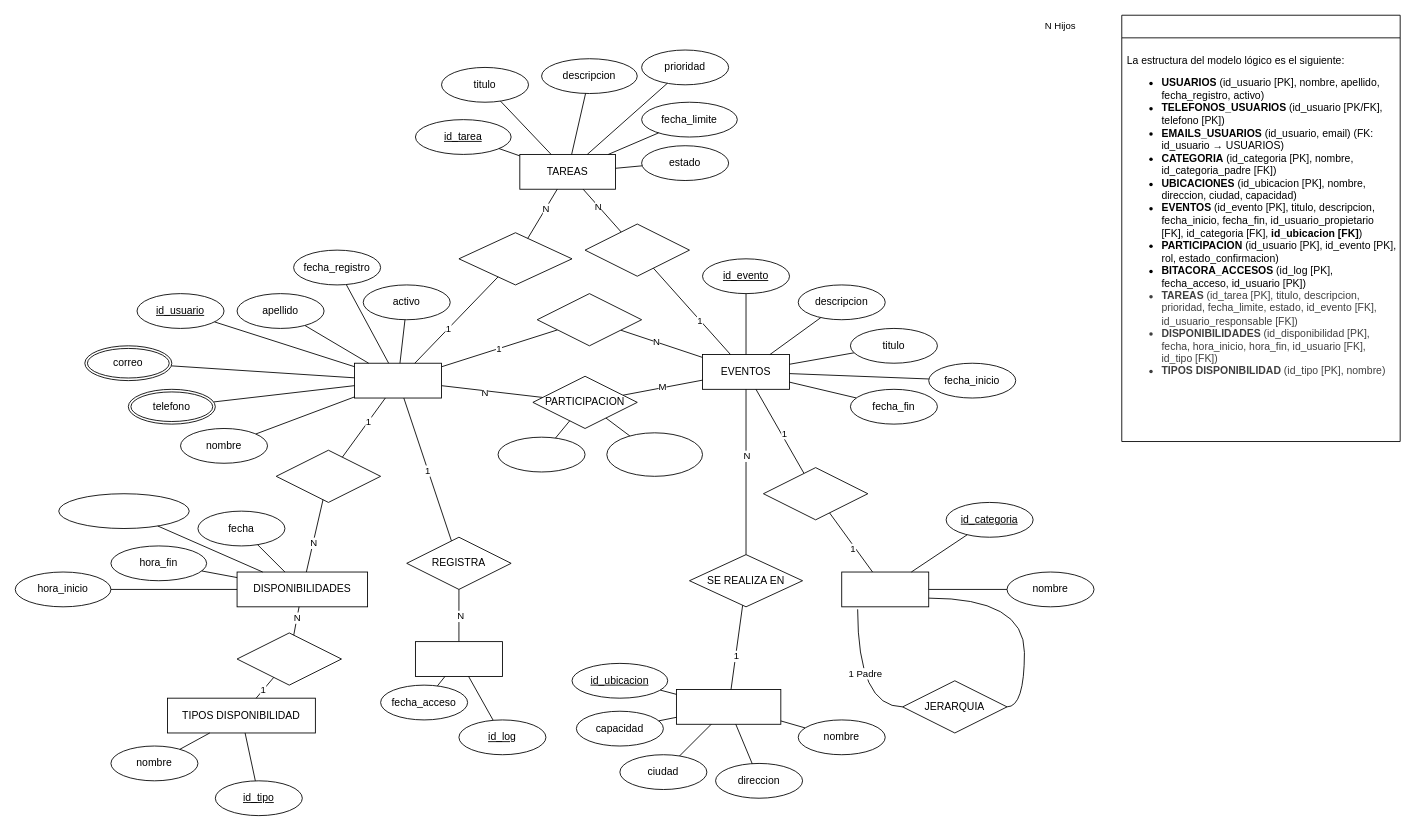
This 1415x831 diagram has some shape labels left out. Here are the shapes that lost their labels. From the top down, the box of each, then its label:
(1121, 14, 1400, 442): Modelo Logico
(458, 232, 572, 285): RESPONSABLE
(584, 223, 689, 276): GENERA
(536, 293, 642, 346): PROPIETARIO
(354, 362, 442, 398): USUARIOS
(497, 436, 585, 472): rol
(606, 432, 703, 476): estado_confirmacion
(275, 449, 381, 502): TIENE
(763, 467, 868, 520): PARTENECE
(58, 493, 189, 529): id_disponibilidad
(841, 571, 929, 607): CATEGORIA
(236, 632, 341, 685): ES DE TIPO
(415, 641, 502, 676): BITACORA DE ACCESOS
(676, 689, 781, 724): UBICACIONES
